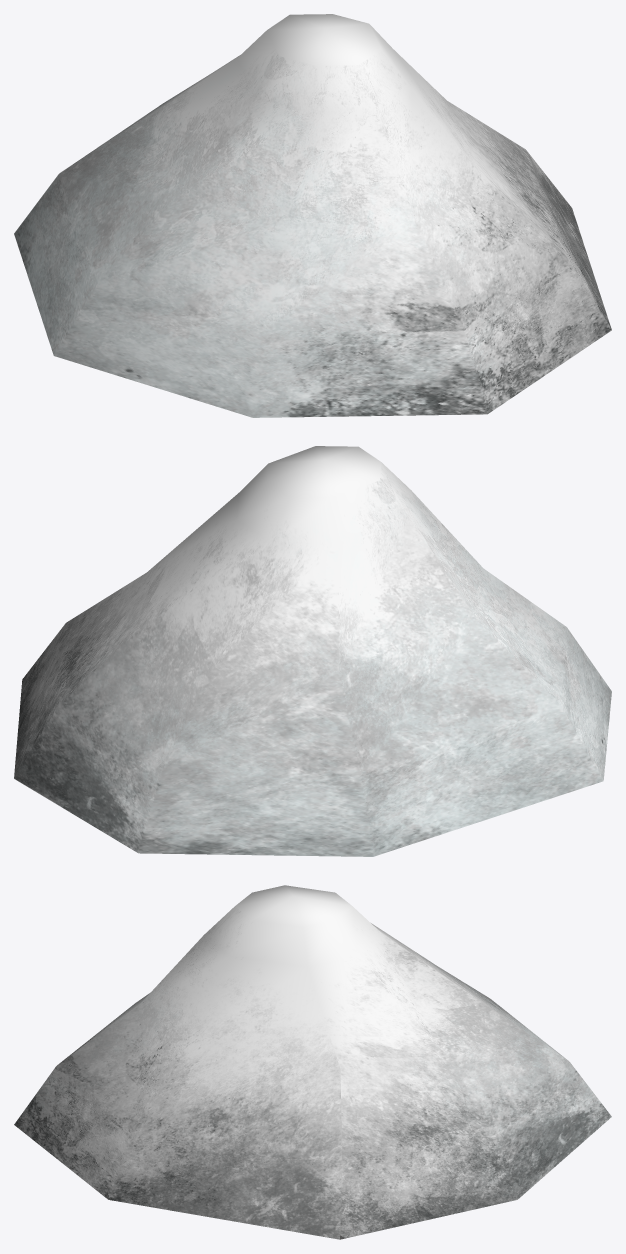
The model's file is ms_snowpile01.fbx.
The picture shows the model from 3 angles, top to bottom: view 1: azimuth 30°, elevation 25°; view 2: azimuth 150°, elevation 25°; view 3: azimuth 270°, elevation 25°; orthographic projection. The views are drawn at different scales.
Visible parts, largest first — view 1: pCube1; view 2: pCube1; view 3: pCube1.
Boxes of the visible parts, <box> form: pCube1: <box>14,14,611,417</box>; pCube1: <box>14,446,611,856</box>; pCube1: <box>14,885,611,1239</box>.
Bounding box in the file's own units: 334 × 155 × 367.
